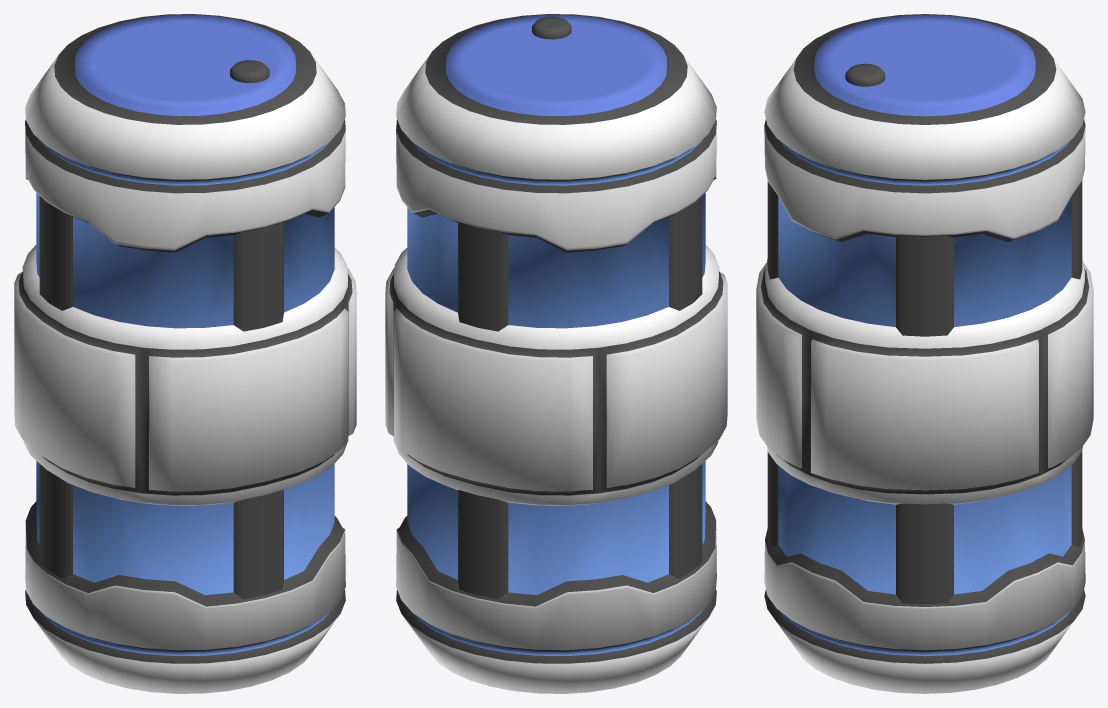
Rendered from ScifiBarrel.fbx.
3 views of the same model, side by side, from view 1: azimuth 30°, elevation 25°; view 2: azimuth 150°, elevation 25°; view 3: azimuth 270°, elevation 25° (orthographic).
Visible parts, largest first — view 1: Scifi Barrel; view 2: Scifi Barrel; view 3: Scifi Barrel.
Part boxes in pixels (<box>): Scifi Barrel: <box>14,14,356,693</box>; Scifi Barrel: <box>385,14,727,693</box>; Scifi Barrel: <box>756,14,1093,693</box>.
Bounding box in the file's own units: 0.5642 × 1.09 × 0.5642.
